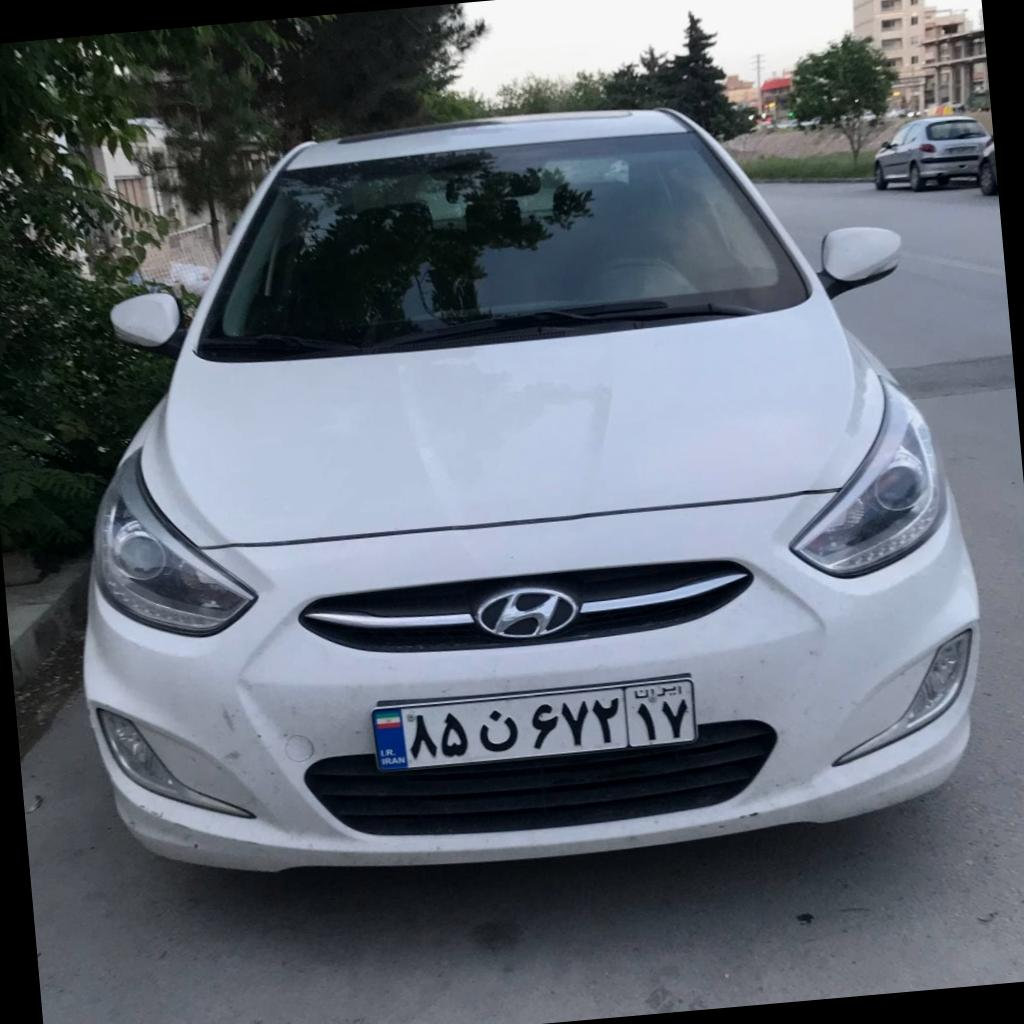Plates: (372, 678, 696, 770)
